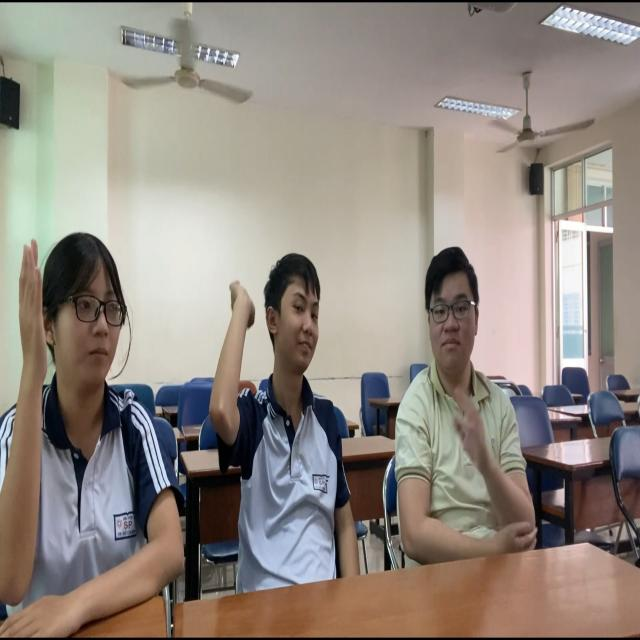raise_hand: (1, 227, 186, 626)
